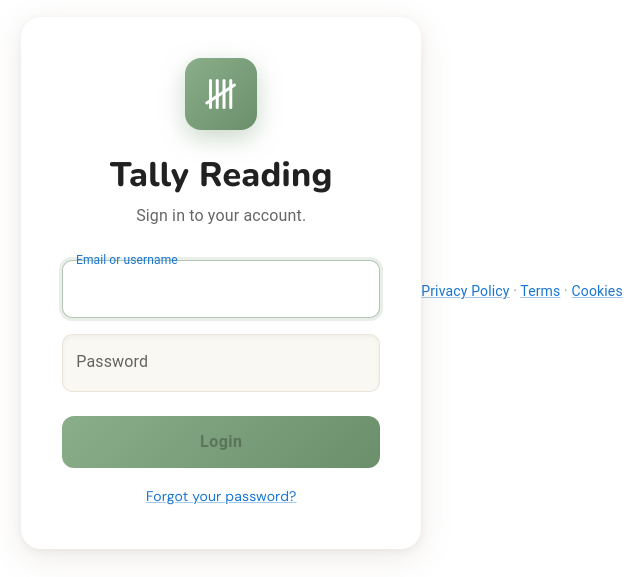
Test: Login Component › Multi-Tenant Mode (Email/Password) › should enable login button when both email and password are entered
Type "test@example.com" into the field labelled "Email or username".
click(221, 289); type("test@example.com")  # box [63,261,379,317]
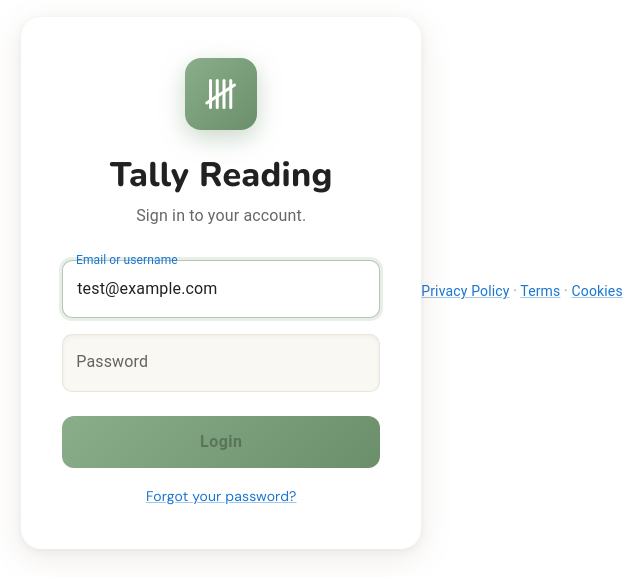
Type "password123" into the password field labelled "Password".
click(221, 363); type("password123")  # box [63,335,379,391]
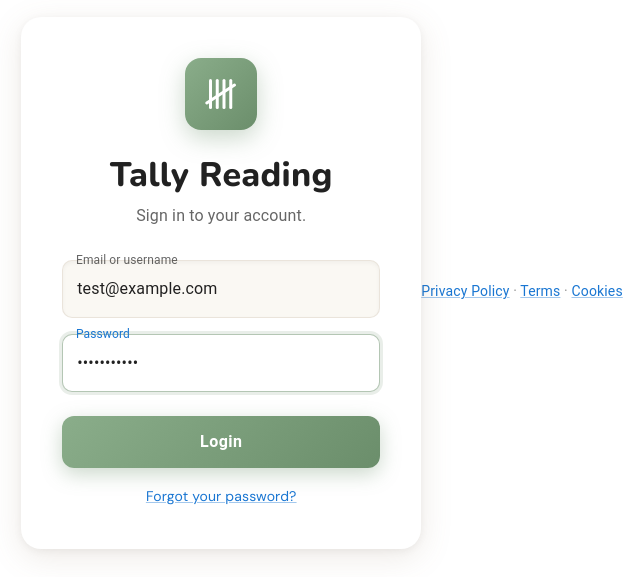
Check: the button "Login" is enabled, box [62,416,380,468]
